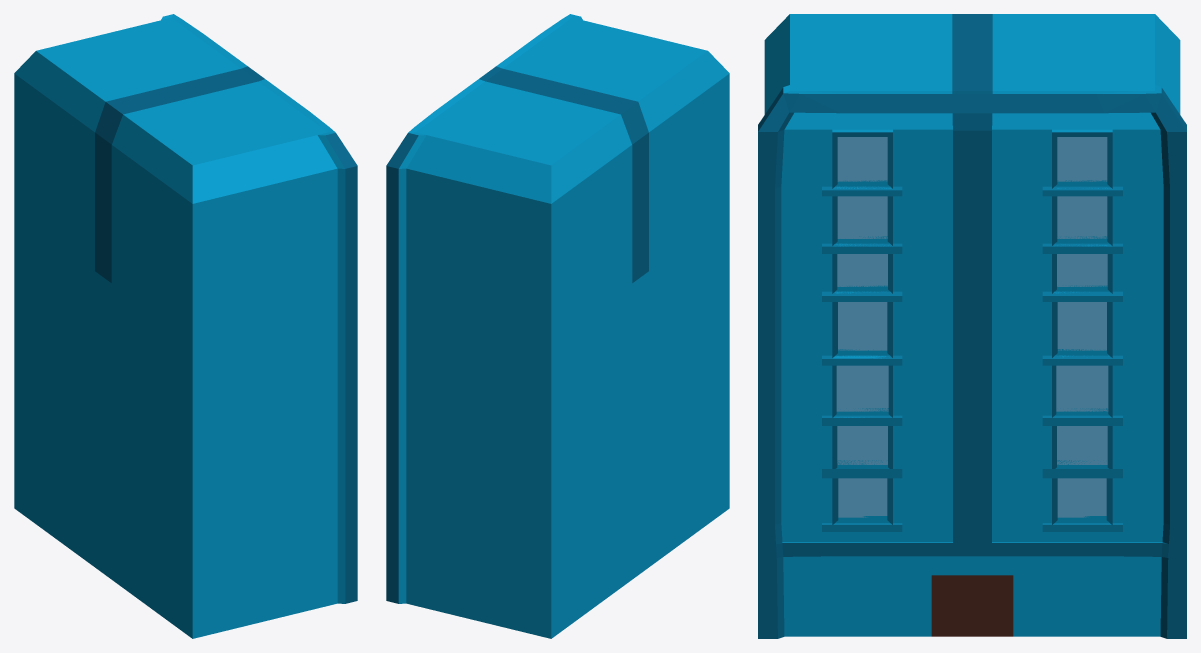
File: blue building.fbx
3 renders of one model, left to right at view 1: azimuth 30°, elevation 25°; view 2: azimuth 150°, elevation 25°; view 3: azimuth 270°, elevation 25°, orthographic. The views are drawn at different scales.
Parts seen in each view (by area): view 1: Cube; view 2: Cube; view 3: Cube.
Part boxes in pixels (box(x1,y1,x2,y2)): Cube: box(14, 14, 357, 638); Cube: box(386, 14, 729, 638); Cube: box(758, 14, 1186, 638).
Size of the model in its own units: 3724 by 9377 by 6744.
